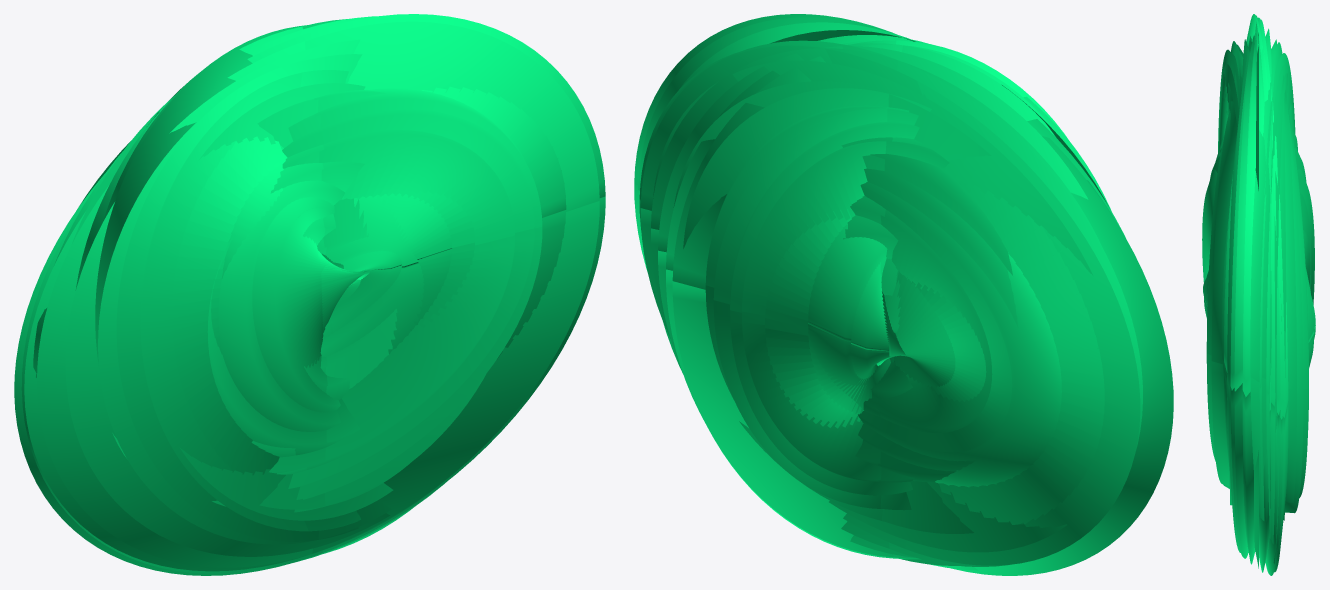
File: metatron-cube.gltf
3 views of the same model, side by side, from view 1: azimuth 30°, elevation 25°; view 2: azimuth 150°, elevation 25°; view 3: azimuth 270°, elevation 25° (orthographic). The views are drawn at different scales.
Visible parts, largest first — view 1: metatron_cube_enhanced_solid; view 2: metatron_cube_enhanced_solid; view 3: metatron_cube_enhanced_solid.
Boxes of the visible parts, box(x1,y1,x2,y2) form: metatron_cube_enhanced_solid: box(14, 14, 605, 575); metatron_cube_enhanced_solid: box(634, 14, 1173, 575); metatron_cube_enhanced_solid: box(1202, 14, 1315, 575).
Size of the model in its own units: 16.03 by 14.35 by 2.96.
